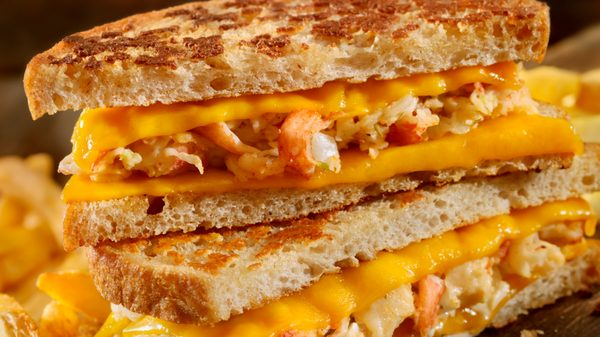soup: (48, 0, 597, 328)
